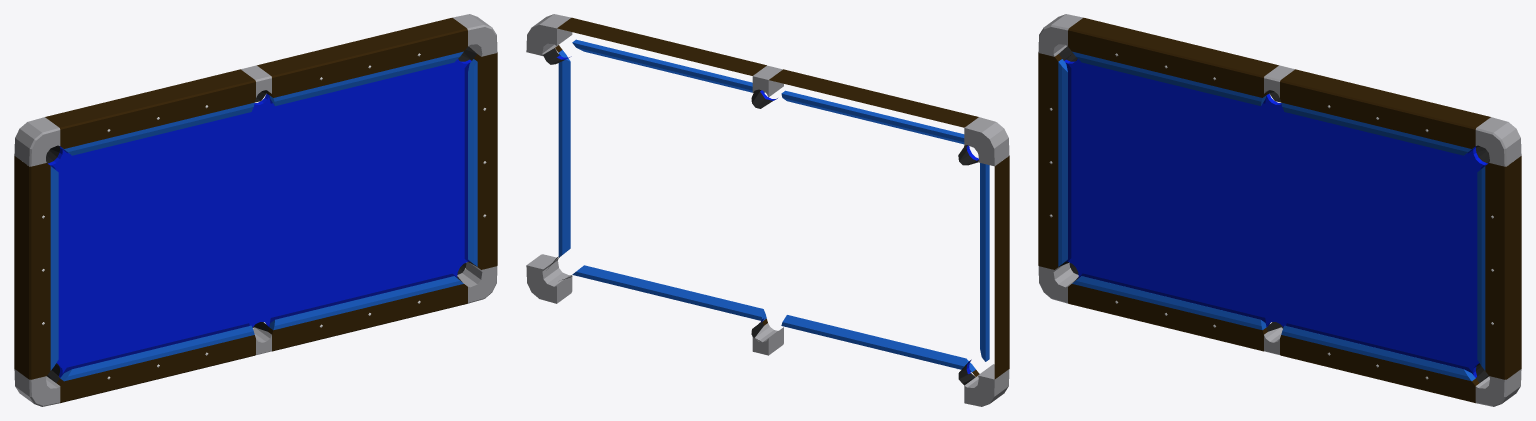
The model's file is p8.min.gltf.
The picture shows the model from 3 angles, left to right: view 1: azimuth 30°, elevation 25°; view 2: azimuth 150°, elevation 25°; view 3: azimuth 330°, elevation 25°; orthographic projection.
Size of the model in its own units: 50.25 by 28.25 by 3.4.
